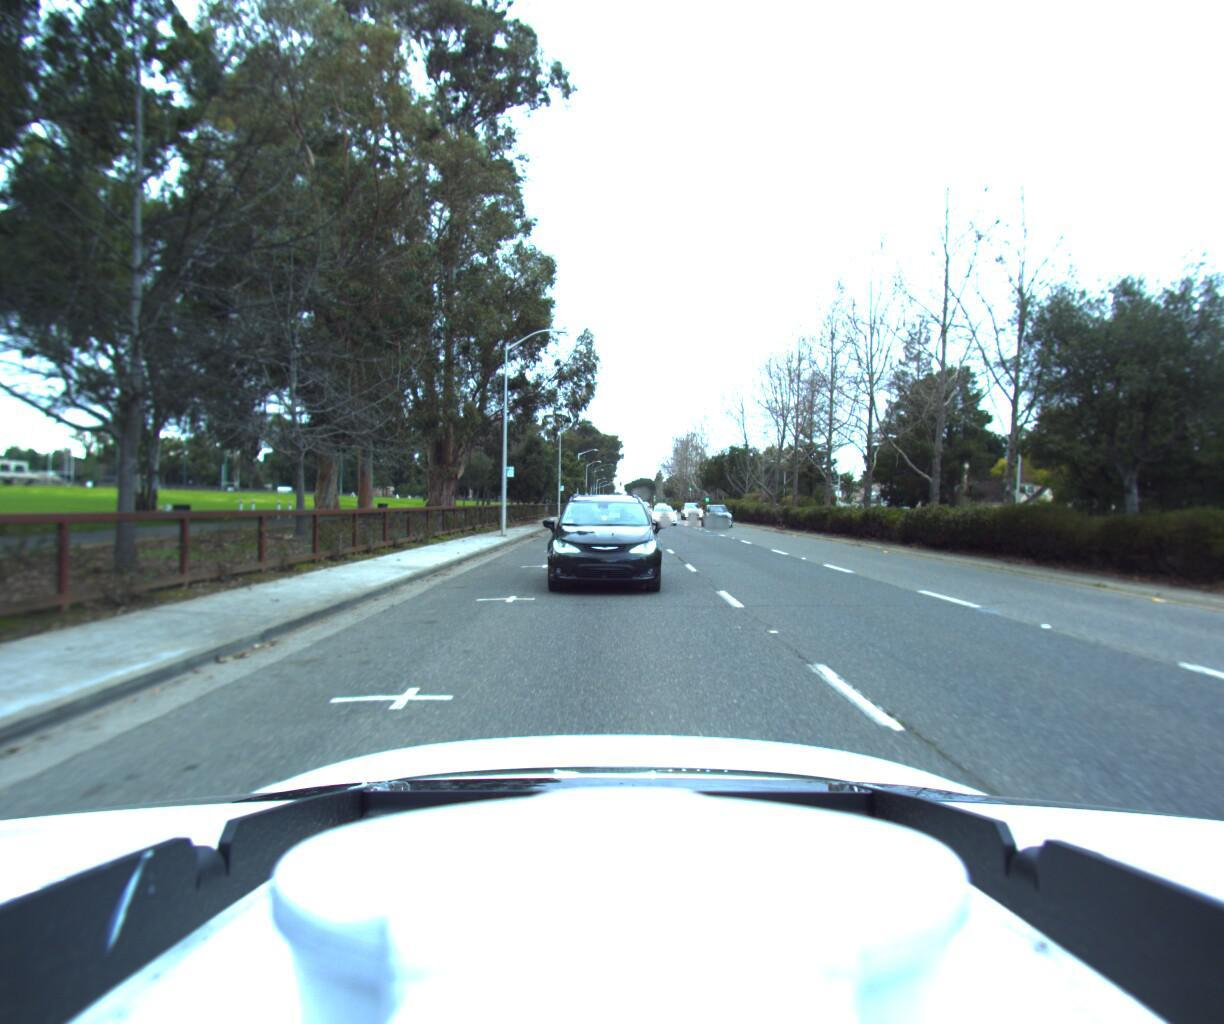car: (543, 486, 660, 594), (700, 501, 738, 526), (646, 501, 676, 523), (682, 500, 708, 518)
